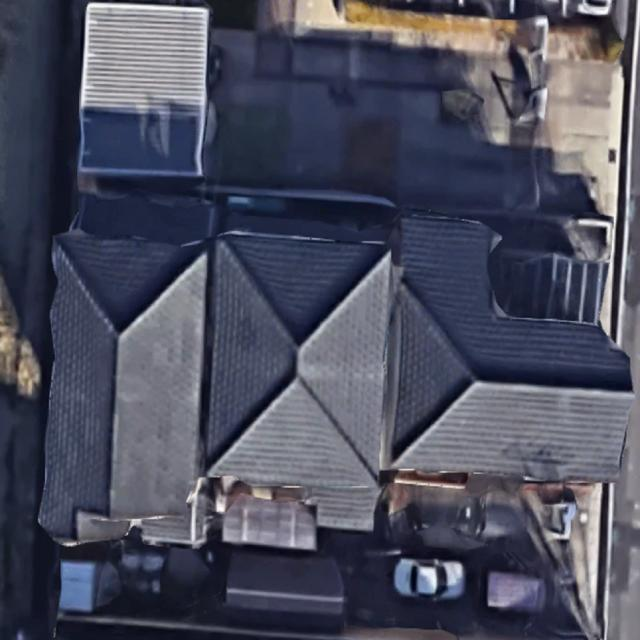Batiment: (391, 218, 634, 481), (204, 236, 390, 529), (40, 230, 208, 541), (79, 3, 209, 179)
